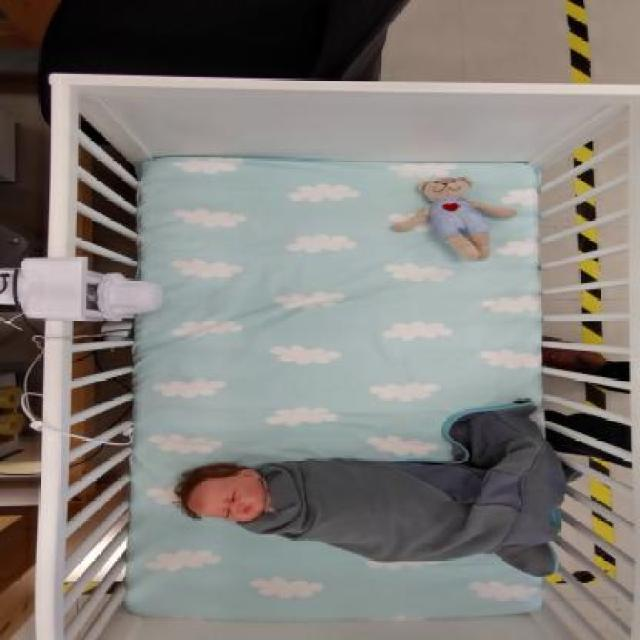baby: (175, 461, 562, 554)
